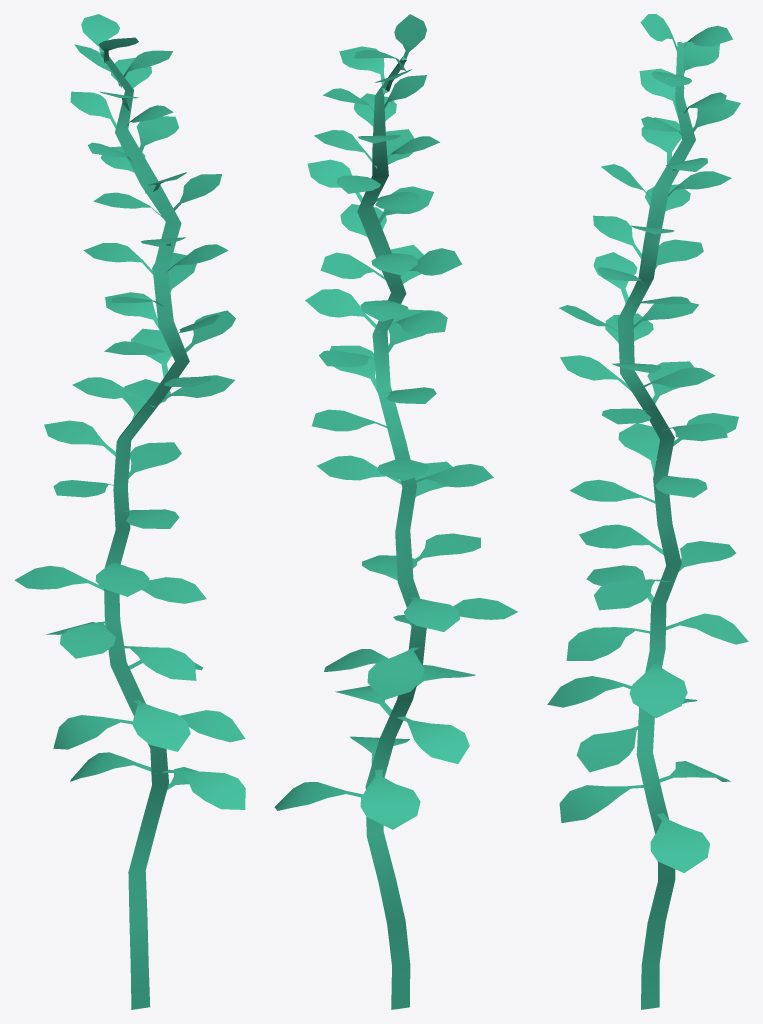
Rendered from coral_rubber_plant_A.fbx.
The picture shows the model from 3 angles, left to right: view 1: azimuth 30°, elevation 25°; view 2: azimuth 150°, elevation 25°; view 3: azimuth 270°, elevation 25°; orthographic projection.
Visible parts, largest first — view 1: coral_rubber_plant_A; view 2: coral_rubber_plant_A; view 3: coral_rubber_plant_A.
Boxes of the visible parts, x1,y1,x2,y2 form: coral_rubber_plant_A: [14, 14, 245, 1009]; coral_rubber_plant_A: [274, 14, 517, 1009]; coral_rubber_plant_A: [547, 14, 748, 1009].
Size of the model in its own units: 28.25 by 134 by 25.05.
